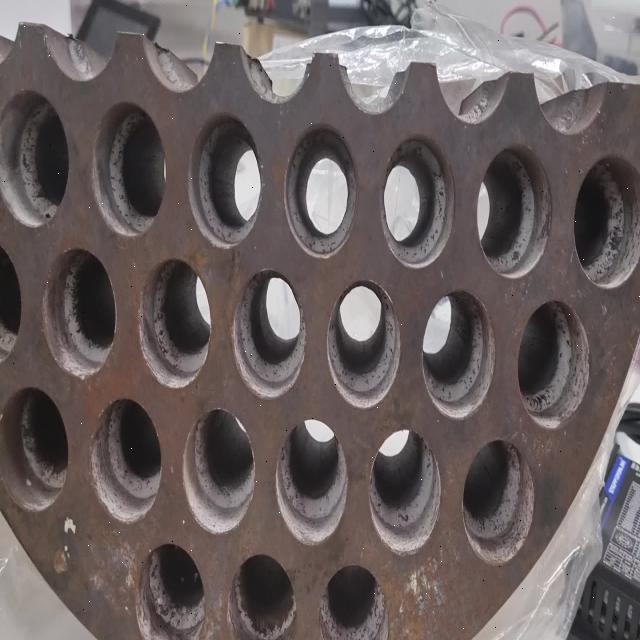Hole: (188, 111, 264, 249), (475, 143, 552, 279), (90, 100, 166, 237), (380, 132, 455, 268), (284, 122, 358, 258), (231, 266, 306, 399), (137, 257, 212, 389), (42, 246, 116, 379), (326, 278, 401, 409), (182, 406, 256, 536), (422, 288, 495, 419), (368, 428, 442, 556), (461, 438, 535, 566), (1, 90, 70, 227), (518, 298, 590, 429), (89, 395, 162, 524), (572, 153, 640, 290), (276, 418, 348, 546), (1, 384, 69, 512), (136, 541, 206, 640), (227, 552, 297, 640), (318, 564, 388, 640), (0, 234, 22, 365)
